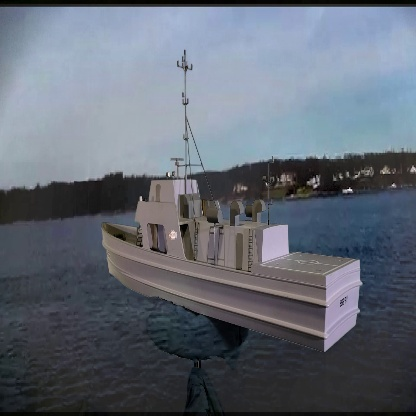YP689: (104, 34, 364, 360)
